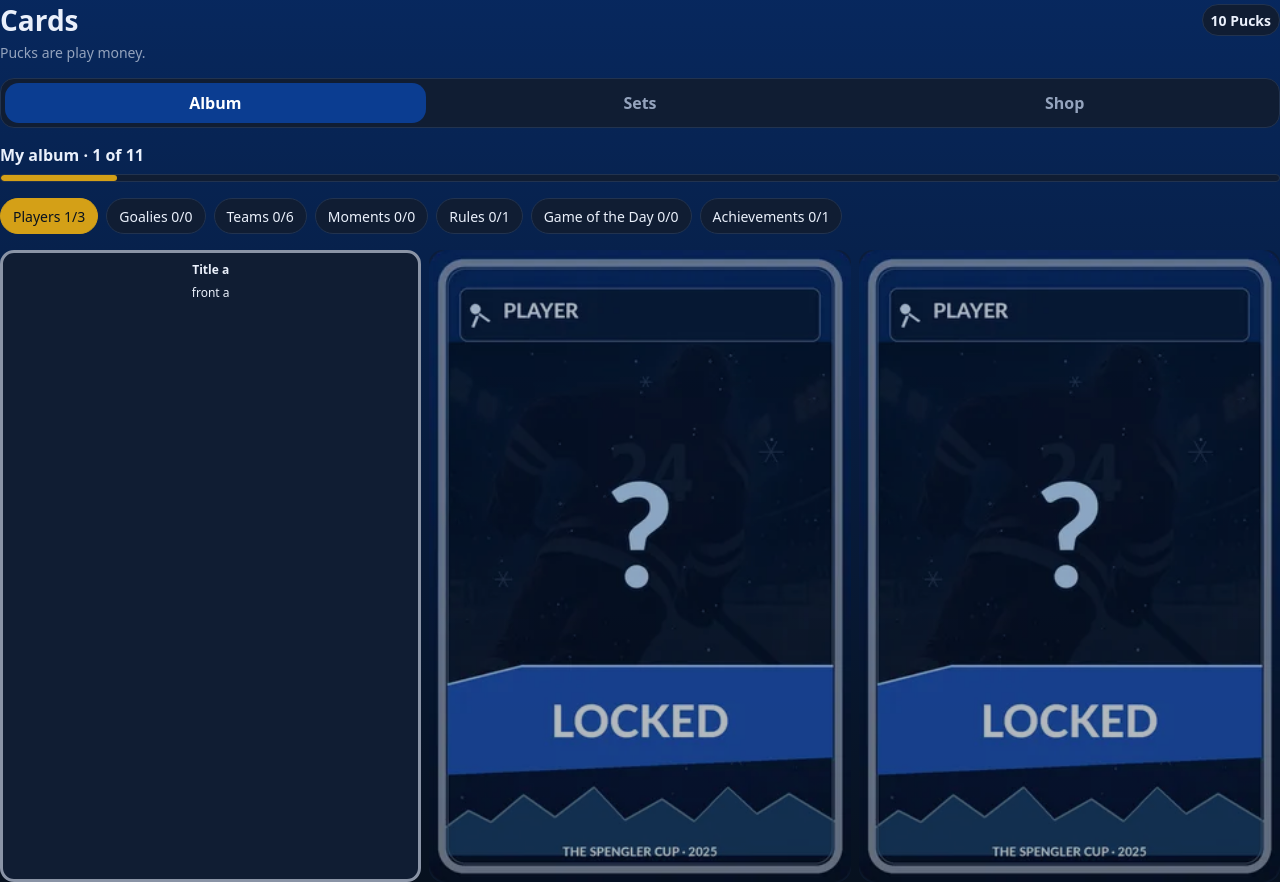
Cards album › upgrade_disabled_when_pucks_short
Click the button with aria-label "Title a, " at (211, 566), box [0, 250, 421, 881]
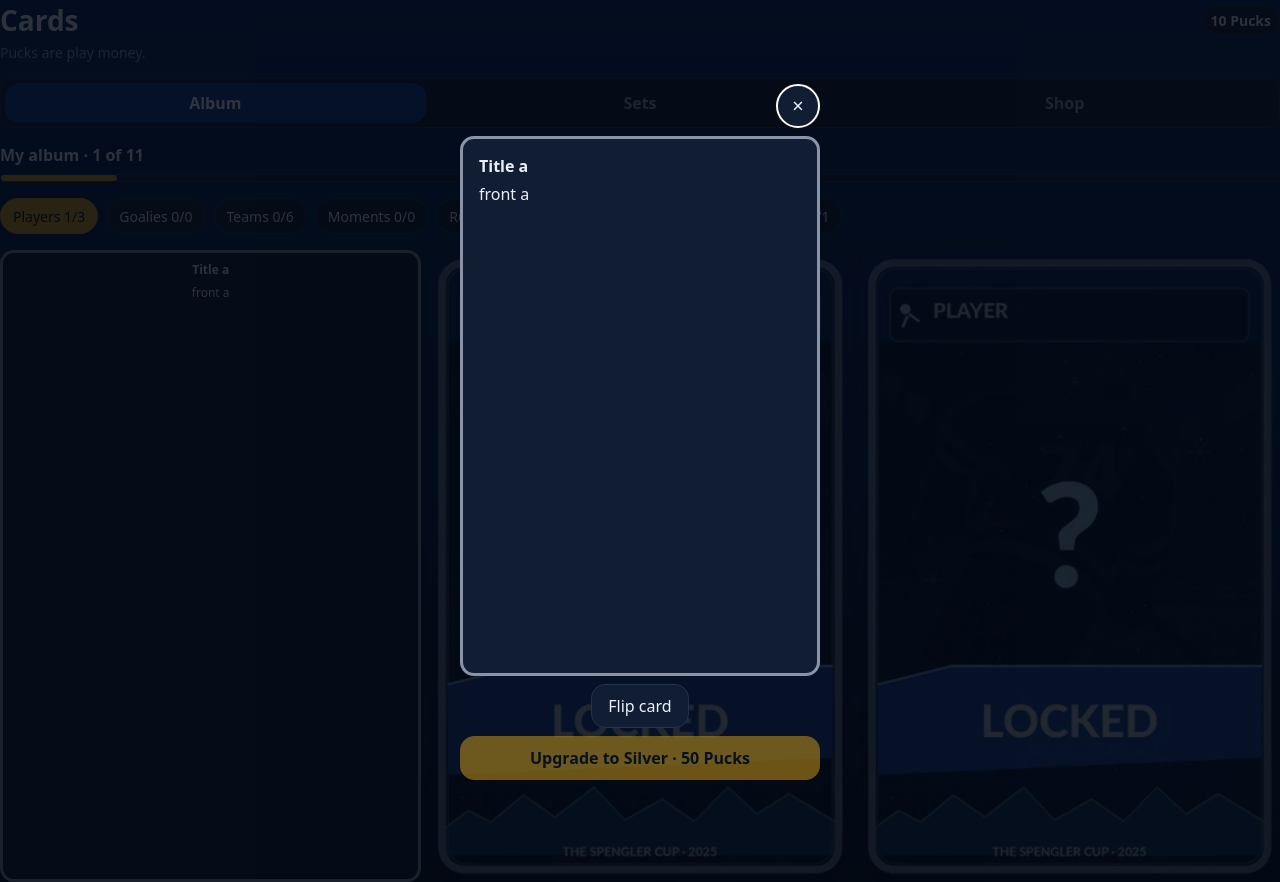
Expected: the button "Upgrade to Silver · 50 Pucks" is disabled, [460, 736, 820, 780]
